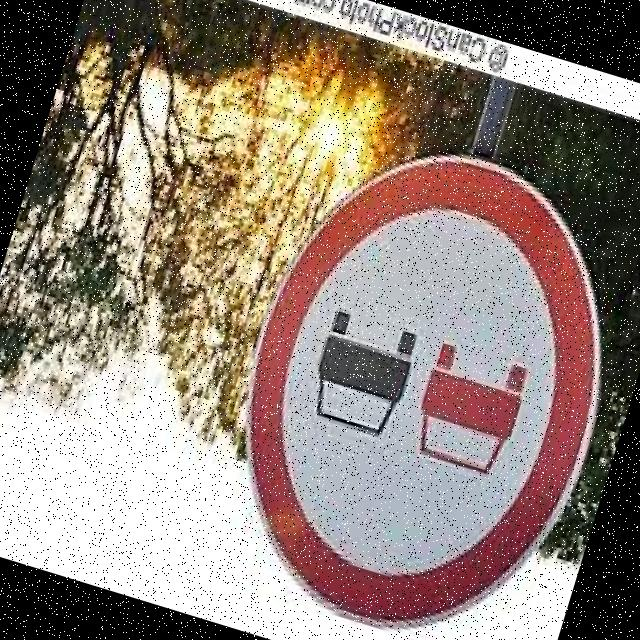no_passing: (179, 111, 640, 640)
